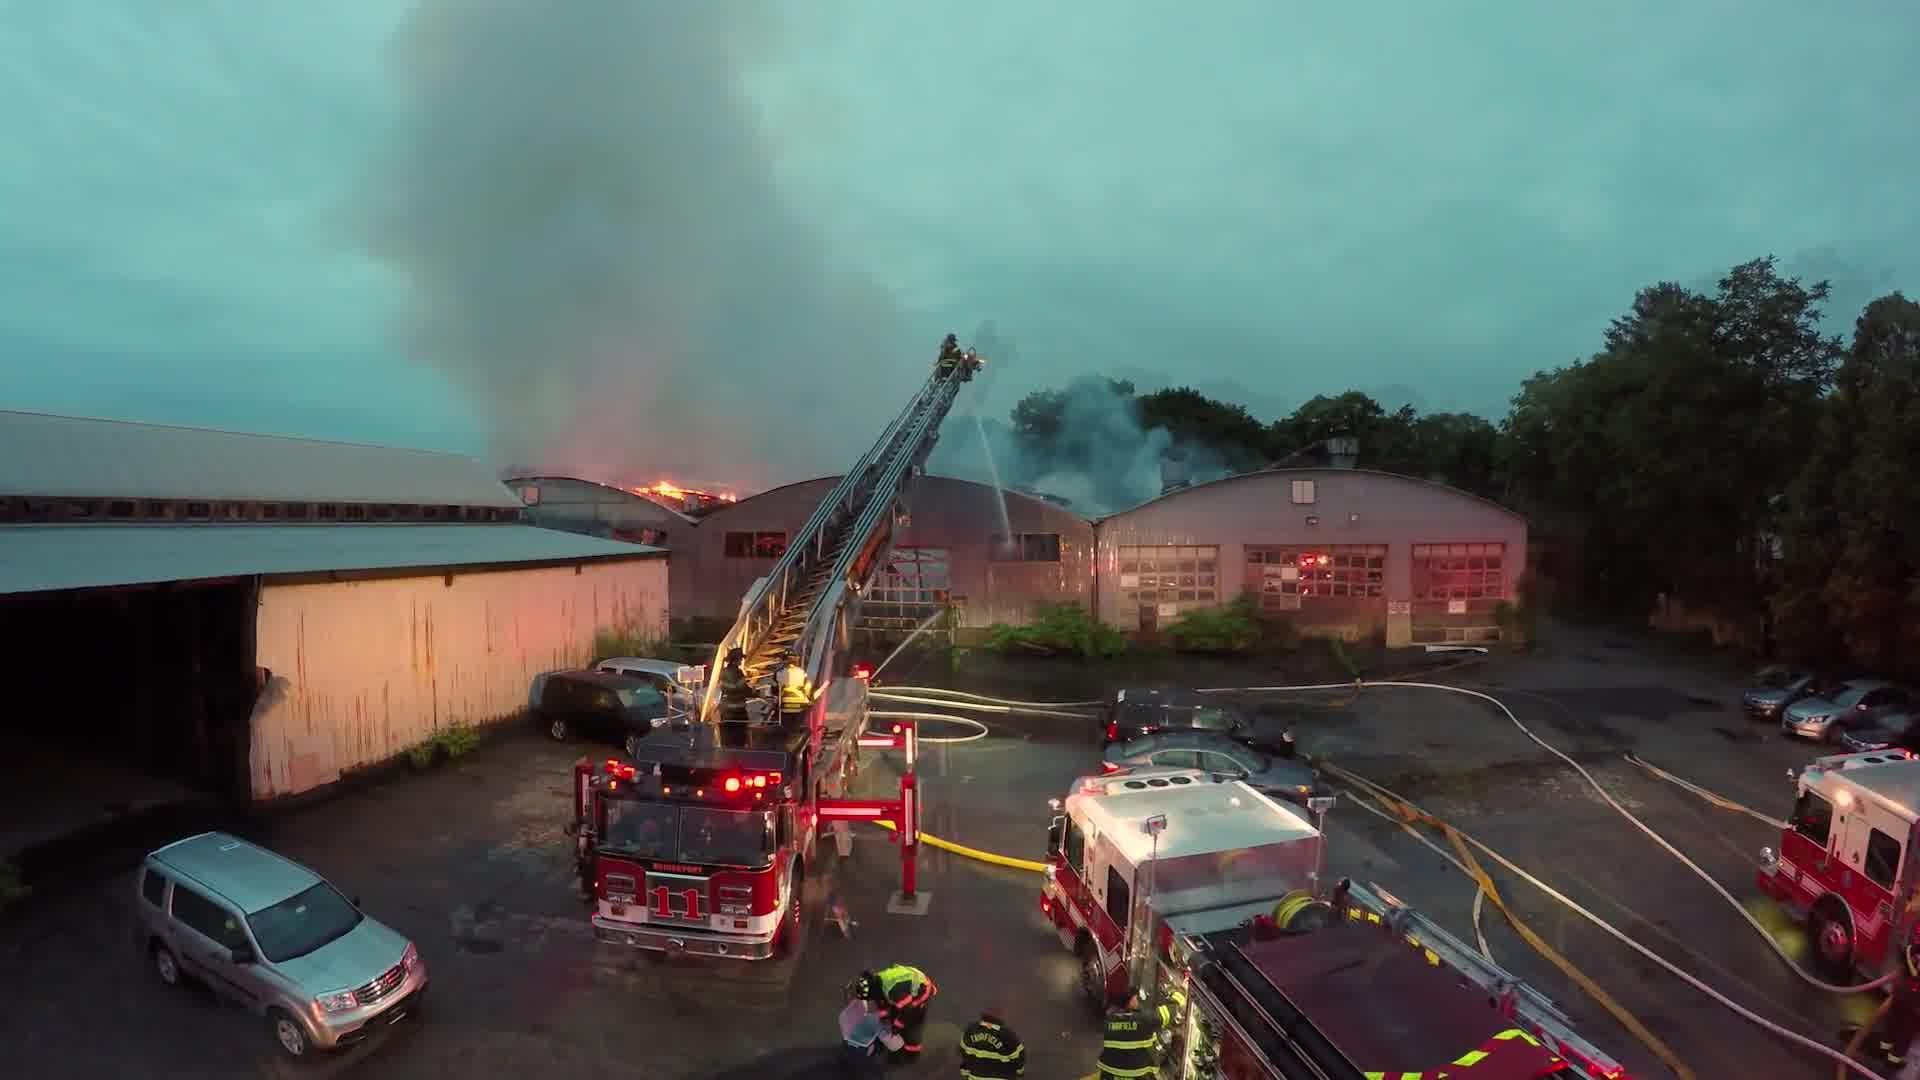fire: (655, 480, 702, 508)
smoke: (413, 8, 807, 464)
